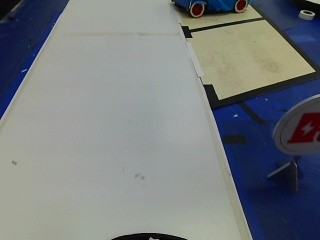battery: (270, 95, 318, 154)
car: (172, 1, 249, 17)
